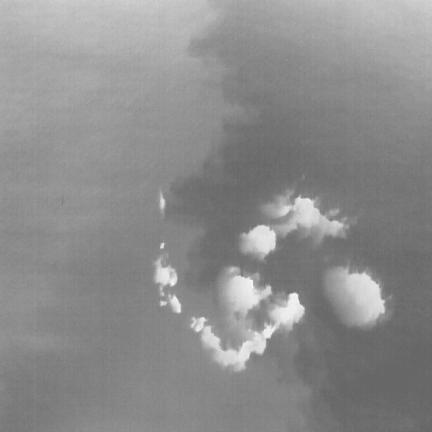flukeprints: (323, 267, 385, 327), (198, 325, 276, 371), (218, 267, 271, 316), (279, 197, 321, 235), (269, 293, 304, 329), (240, 225, 275, 260), (154, 256, 177, 286), (190, 316, 207, 332), (168, 294, 181, 313), (159, 191, 165, 215), (159, 297, 167, 306), (161, 242, 164, 249)
